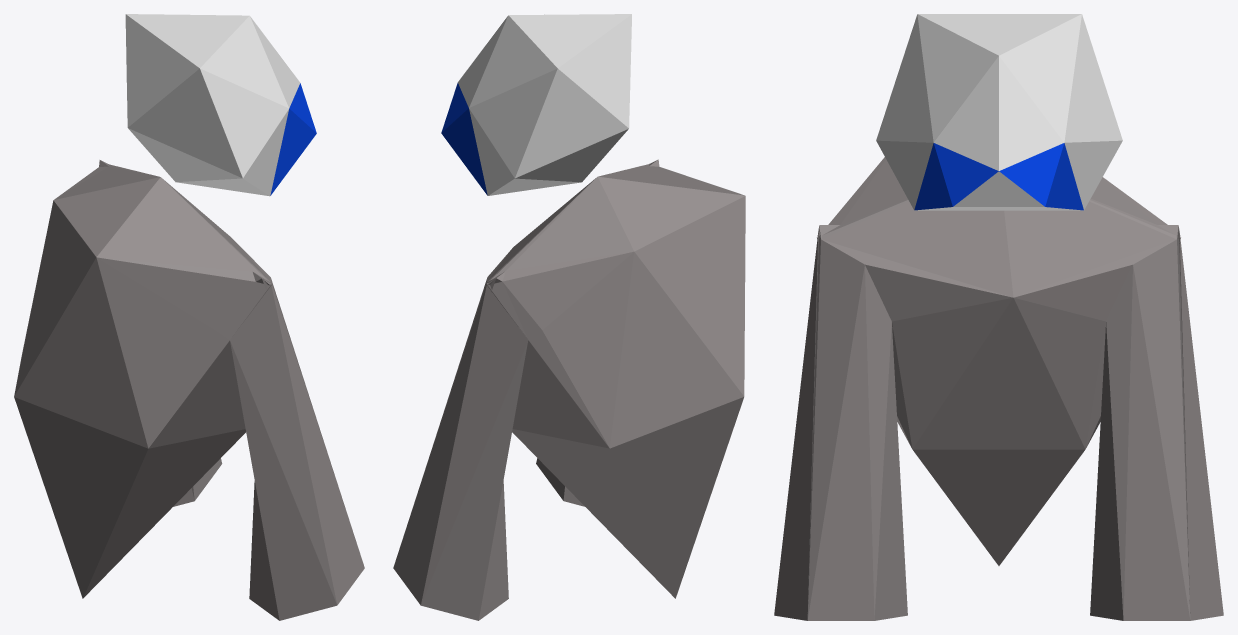
The model's file is TrueWorker.dae.
3 views of the same model, side by side, from view 1: azimuth 30°, elevation 25°; view 2: azimuth 150°, elevation 25°; view 3: azimuth 270°, elevation 25° (orthographic). The views are drawn at different scales.
Visible parts, largest first — view 1: Icosphere.001, Icosphere; view 2: Icosphere.001, Icosphere; view 3: Icosphere.001, Icosphere.
Boxes of the visible parts, <box> form: Icosphere.001: <box>14,160,364,620</box>; Icosphere: <box>125,14,316,196</box>; Icosphere.001: <box>393,159,745,620</box>; Icosphere: <box>441,14,631,195</box>; Icosphere.001: <box>774,157,1223,620</box>; Icosphere: <box>876,14,1122,210</box>.
Size of the model in its own units: 2.32 by 2.85 by 4.2.
